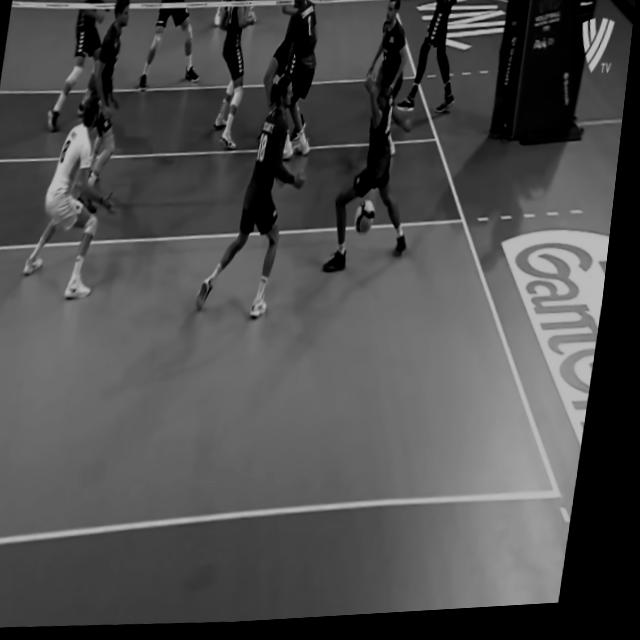player: (201, 76, 306, 335), (27, 88, 133, 310), (330, 61, 435, 283), (71, 0, 140, 224), (263, 0, 334, 162), (356, 0, 424, 169)
